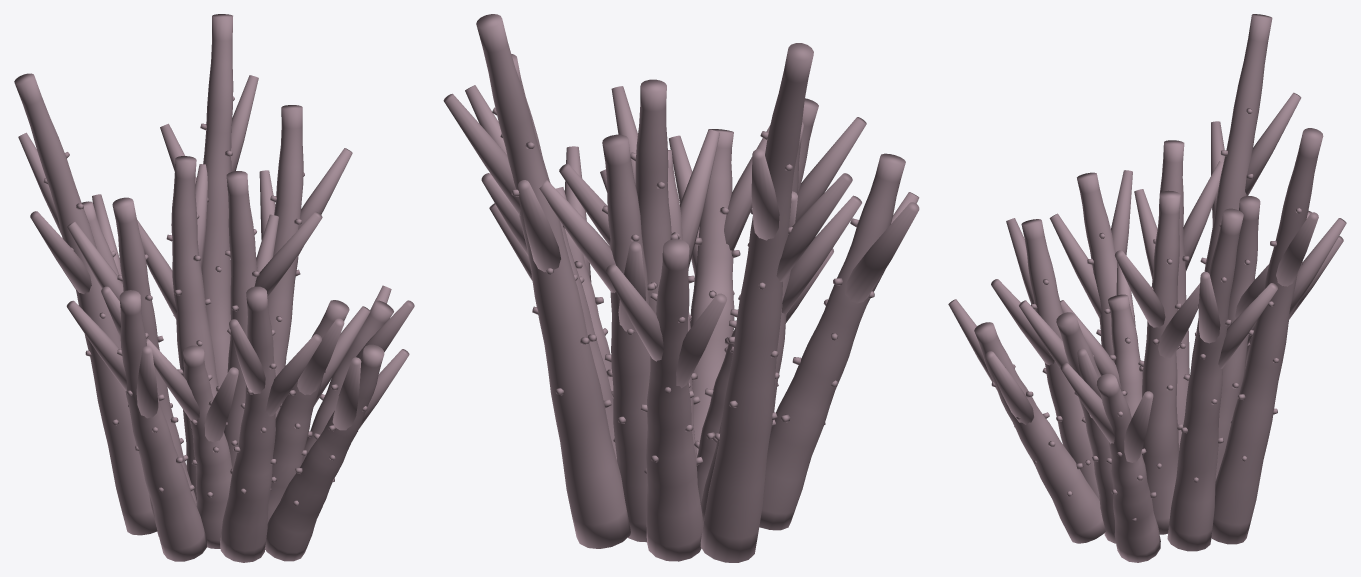
Rendered from pocillo-desktop.glb.
3 renders of one model, left to right at view 1: azimuth 30°, elevation 25°; view 2: azimuth 150°, elevation 25°; view 3: azimuth 270°, elevation 25°, orthographic. The views are drawn at different scales.
Parts seen in each view (by area): view 1: branch, lateral-branch, radial-corallite; view 2: branch, lateral-branch, radial-corallite; view 3: branch, lateral-branch, radial-corallite.
Boxes of the visible parts, x1,y1,x2,y2 form: branch: [14, 14, 393, 562]; lateral-branch: [18, 75, 414, 442]; radial-corallite: [43, 96, 367, 505]; branch: [476, 14, 905, 562]; lateral-branch: [443, 85, 919, 388]; radial-corallite: [492, 107, 874, 473]; branch: [974, 14, 1323, 562]; lateral-branch: [948, 92, 1346, 462]; radial-corallite: [991, 108, 1302, 521].
Size of the model in its own units: 0.4732 by 0.617 by 0.5017.
